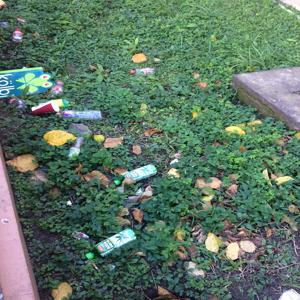plastic bottle: (77, 228, 141, 259), (98, 159, 164, 181), (67, 134, 95, 163), (33, 96, 82, 112), (123, 63, 164, 82), (64, 106, 107, 123)
